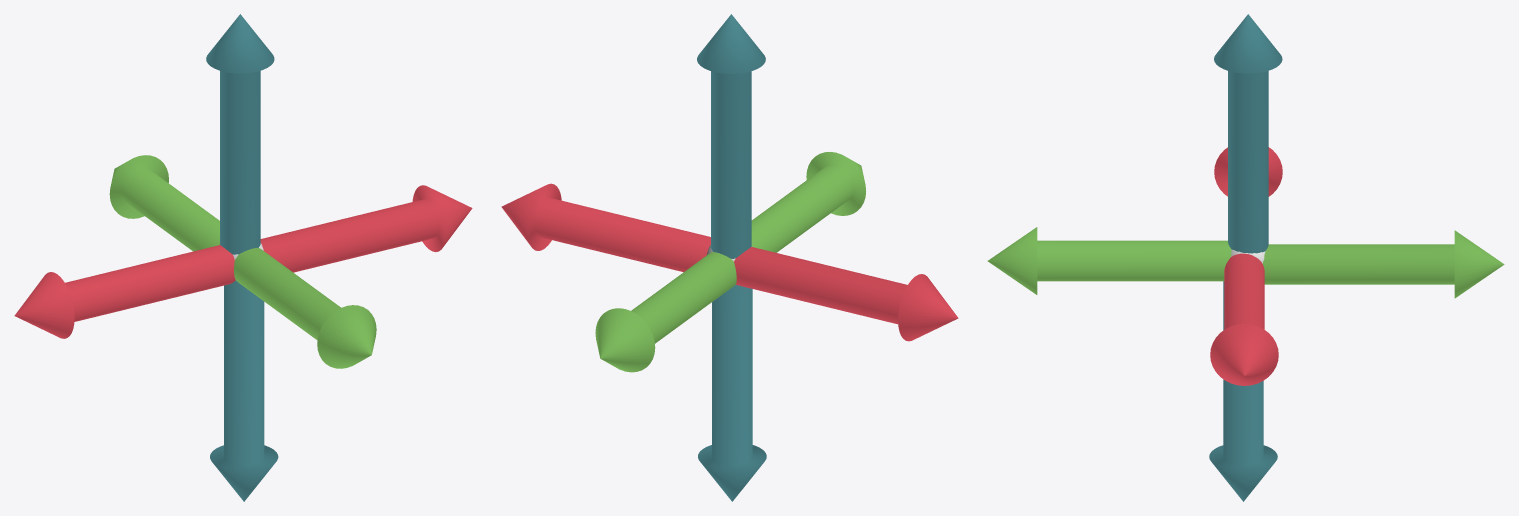
The model's file is gizmo_arrows.glb.
3 renders of one model, left to right at view 1: azimuth 30°, elevation 25°; view 2: azimuth 150°, elevation 25°; view 3: azimuth 270°, elevation 25°, orthographic.
Visible parts, largest first — view 1: Cylinder.015, Cylinder.014, Cylinder.017, Cylinder.016, Cylinder.010, Cylinder.018; view 2: Cylinder.015, Cylinder.014, Cylinder.017, Cylinder.016, Cylinder.018, Cylinder.010; view 3: Cylinder.015, Cylinder.010, Cylinder.018, Cylinder.016, Cylinder.017, Cylinder.014.
Boxes of the visible parts, <box> form: Cylinder.015: <box>206,14,274,254</box>; Cylinder.014: <box>14,245,235,338</box>; Cylinder.017: <box>210,280,278,501</box>; Cylinder.016: <box>260,185,472,272</box>; Cylinder.010: <box>234,247,376,368</box>; Cylinder.018: <box>109,155,219,251</box>; Cylinder.015: <box>697,14,765,258</box>; Cylinder.014: <box>734,247,958,341</box>; Cylinder.017: <box>698,285,766,501</box>; Cylinder.016: <box>501,183,710,272</box>; Cylinder.018: <box>595,252,736,372</box>; Cylinder.010: <box>751,152,865,252</box>; Cylinder.015: <box>1214,14,1282,253</box>; Cylinder.010: <box>987,227,1231,294</box>; Cylinder.018: <box>1262,230,1504,298</box>; Cylinder.016: <box>1210,253,1278,385</box>; Cylinder.017: <box>1209,281,1277,501</box>; Cylinder.014: <box>1214,147,1282,196</box>.
Bounding box in the file's own units: 2.6 × 2.65 × 2.55.
